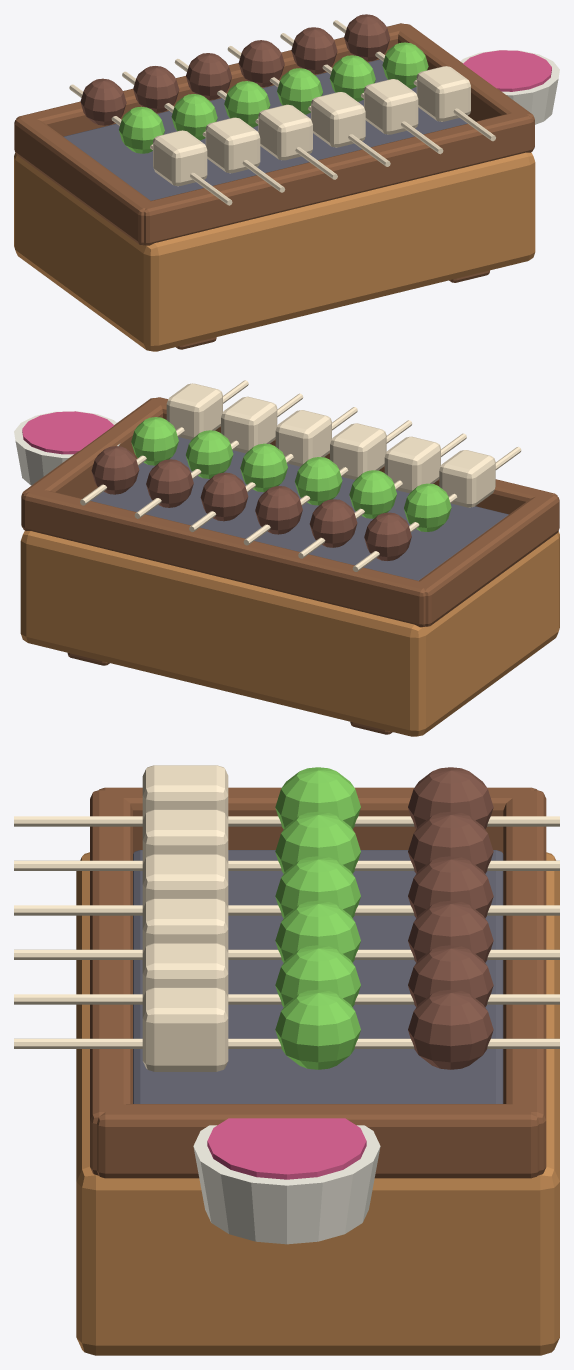
The model's file is SmallSkewerRack.glb.
3 views of the same model, one above another, from view 1: azimuth 30°, elevation 25°; view 2: azimuth 150°, elevation 25°; view 3: azimuth 270°, elevation 25° (orthographic). The views are drawn at different scales.
Visible parts, largest first — view 1: wood grill base, raised wooden rim, grill black inset, raised wooden rim.002, raised wooden rim.001, raised wooden rim.003, sauce, skewer 2 tofu, skewer 1 tofu, skewer 5 tofu, skewer 3 tofu, skewer 6 tofu (+20 smaller); view 2: wood grill base, raised wooden rim.001, grill black inset, raised wooden rim.002, raised wooden rim.003, sauce, skewer 1 tofu, skewer 3 tofu, skewer 2 tofu, skewer 5 tofu, skewer 6 tofu, skewer 4 tofu (+20 smaller); view 3: wood grill base, grill black inset, raised wooden rim.003, sauce cup, raised wooden rim.001, raised wooden rim, sauce, raised wooden rim.002, skewer 6 tofu, skewer 6 food 1, skewer 6 food 2, skewer 2 tofu (+20 smaller).
Boxes of the visible parts, x1=… form: wood grill base: x1=14, y1=152, x2=535, y2=351; raised wooden rim: x1=141, y1=113, x2=533, y2=245; grill black inset: x1=63, y1=59, x2=467, y2=200; raised wooden rim.002: x1=14, y1=115, x2=150, y2=245; raised wooden rim.001: x1=16, y1=23, x2=408, y2=136; raised wooden rim.003: x1=395, y1=24, x2=534, y2=149; sauce: x1=463, y1=50, x2=551, y2=91; skewer 2 tofu: x1=205, y1=117, x2=260, y2=173; skewer 1 tofu: x1=153, y1=130, x2=207, y2=186; skewer 5 tofu: x1=364, y1=79, x2=418, y2=134; skewer 3 tofu: x1=258, y1=104, x2=312, y2=160; skewer 6 tofu: x1=416, y1=66, x2=470, y2=121; wood grill base: x1=20, y1=531, x2=559, y2=736; raised wooden rim.001: x1=22, y1=488, x2=428, y2=627; grill black inset: x1=91, y1=437, x2=508, y2=580; raised wooden rim.002: x1=417, y1=493, x2=559, y2=626; raised wooden rim.003: x1=21, y1=398, x2=165, y2=527; sauce: x1=22, y1=411, x2=114, y2=454; skewer 1 tofu: x1=439, y1=450, x2=495, y2=507; skewer 3 tofu: x1=330, y1=423, x2=386, y2=479; skewer 2 tofu: x1=384, y1=436, x2=440, y2=493; skewer 5 tofu: x1=221, y1=396, x2=277, y2=453; skewer 6 tofu: x1=166, y1=383, x2=222, y2=439; skewer 4 tofu: x1=275, y1=410, x2=331, y2=466; wood grill base: x1=76, y1=852, x2=559, y2=1355; grill black inset: x1=133, y1=850, x2=503, y2=1103; raised wooden rim.003: x1=97, y1=1104, x2=539, y2=1178; sauce cup: x1=193, y1=1125, x2=380, y2=1244; raised wooden rim.001: x1=503, y1=790, x2=546, y2=1175; raised wooden rim: x1=90, y1=790, x2=132, y2=1175; sauce: x1=207, y1=1118, x2=366, y2=1179; raised wooden rim.002: x1=99, y1=787, x2=536, y2=853; skewer 6 tofu: x1=142, y1=987, x2=228, y2=1071; skewer 6 food 1: x1=275, y1=989, x2=360, y2=1069; skewer 6 food 2: x1=408, y1=989, x2=493, y2=1069; skewer 2 tofu: x1=142, y1=809, x2=228, y2=864.
Size of the model in its own units: 1.2 by 0.472 by 0.7.
